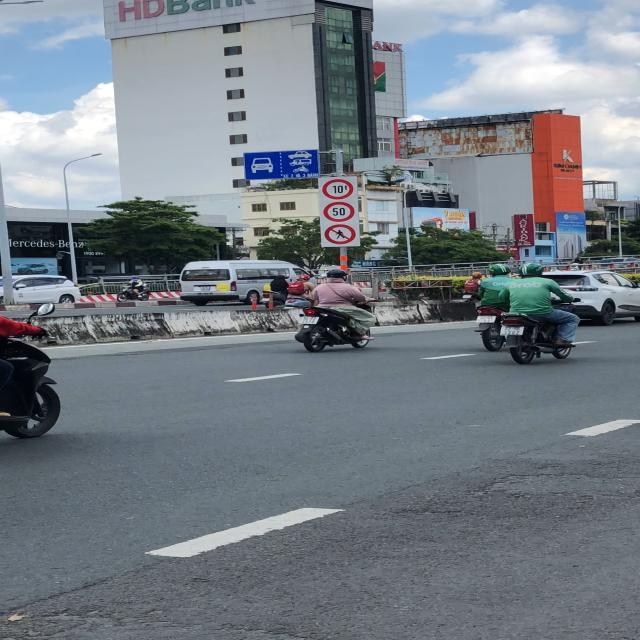Bien bao cam nguoi di bo: (322, 223, 359, 246)
Bien bao toc do toi da cho phep: (322, 200, 356, 223)
